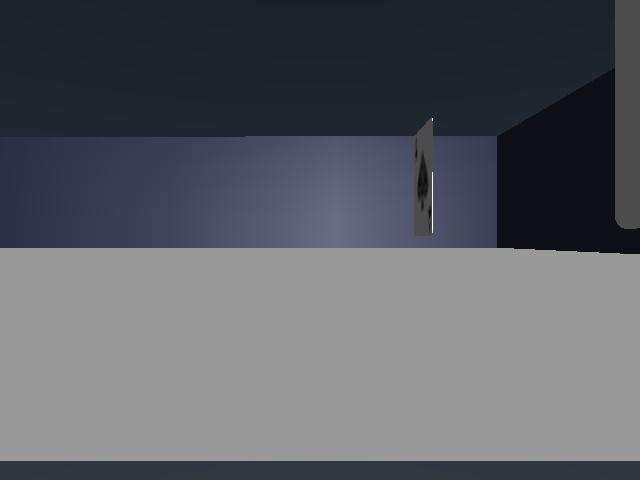club: (413, 118, 433, 236)
